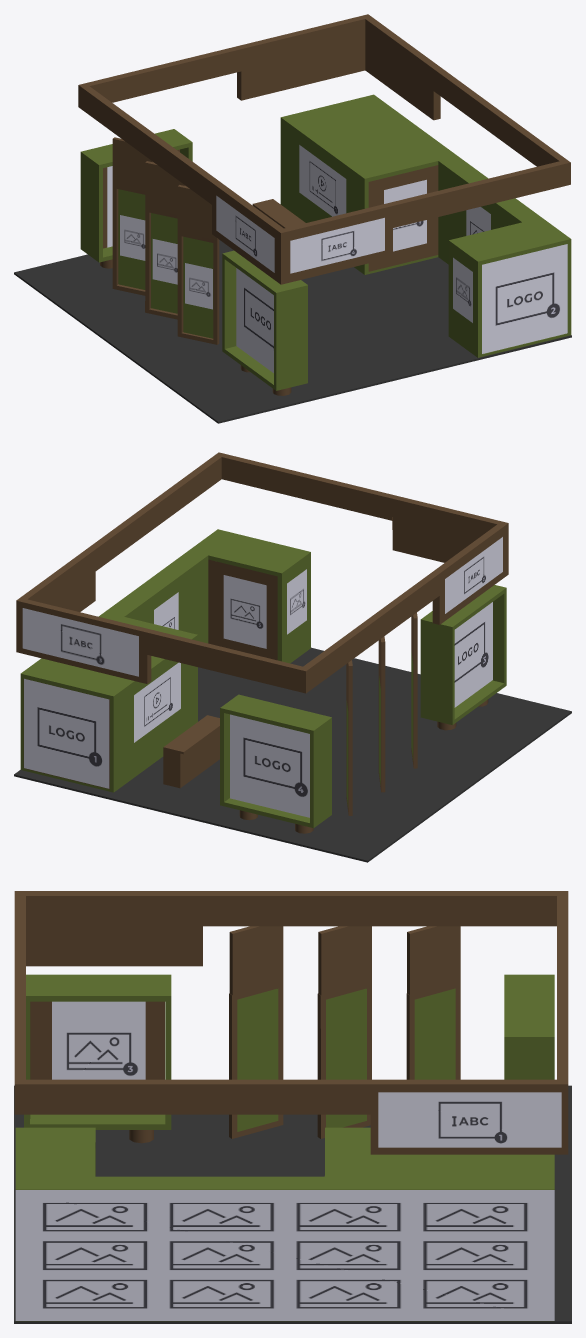
File: stant25.gltf
The picture shows the model from 3 angles, top to bottom: view 1: azimuth 30°, elevation 25°; view 2: azimuth 150°, elevation 25°; view 3: azimuth 270°, elevation 25°; orthographic projection. The views are drawn at different scales.
Visible parts, largest first — view 1: modrenk2, modrenk1, modkaro3, modlogo2, modyazi4, modlogo3, modvideo1, modyazi2, moddikgorsel7, moddikgorsel6, moddikgorsel2, moddikgorsel1 (+2 smaller); view 2: modrenk2, modkaro3, modrenk1, modlogo1, modlogo4, modyazi3, modlogo3, moddikgorsel5, modvideo1, modyazi2, moddikgorsel9, moddikgorsel8; view 3: modgenisgorsel, modrenk2, modrenk1, modkaro3, modyazi1, moddikgorsel3.
Boxes of the visible parts, box(x1,y1,x2,y2) form: modrenk2: box(78, 14, 570, 395); modrenk1: box(80, 94, 571, 390); modkaro3: box(14, 240, 571, 423); modlogo2: box(482, 244, 567, 353); modyazi4: box(290, 217, 384, 273); modlogo3: box(236, 268, 273, 372); modvideo1: box(299, 145, 346, 216); modyazi2: box(216, 195, 274, 272); moddikgorsel7: box(384, 179, 426, 251); moddikgorsel6: box(185, 263, 212, 309); moddikgorsel2: box(120, 215, 145, 260); moddikgorsel1: box(152, 239, 177, 284); modrenk2: box(16, 452, 508, 833); modkaro3: box(14, 647, 571, 862); modrenk1: box(20, 529, 506, 828); modlogo1: box(24, 678, 109, 788); modlogo4: box(230, 714, 309, 817); modyazi3: box(22, 608, 138, 676); modlogo3: box(454, 602, 492, 707); moddikgorsel5: box(223, 575, 266, 648); modvideo1: box(134, 662, 180, 742); modyazi2: box(445, 537, 502, 613); moddikgorsel9: box(287, 569, 306, 634); moddikgorsel8: box(154, 592, 178, 629); modgenisgorsel: box(15, 1190, 554, 1320); modrenk2: box(14, 891, 568, 1154); modrenk1: box(15, 974, 554, 1321); modkaro3: box(14, 1085, 571, 1323); modyazi1: box(378, 1092, 561, 1147); moddikgorsel3: box(52, 1001, 145, 1079).
Size of what is drawn, in the model's own units: 1 by 0.4725 by 1.
Materials: 22 (19 with a texture image).
